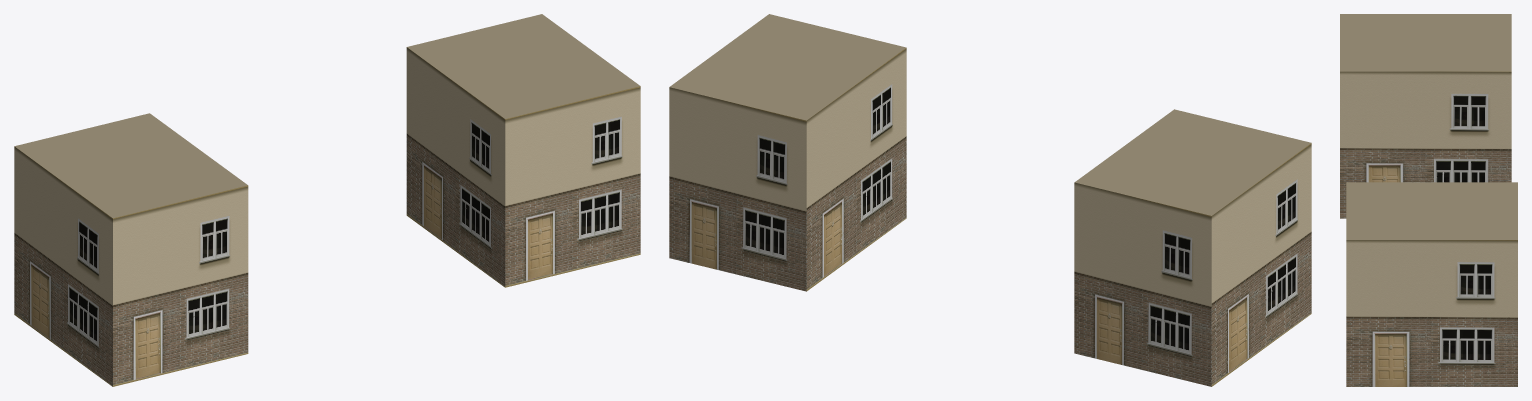
Rendered from house.fbx.
3 renders of one model, left to right at view 1: azimuth 30°, elevation 25°; view 2: azimuth 150°, elevation 25°; view 3: azimuth 270°, elevation 25°, orthographic. The views are drawn at different scales.
Parts seen in each view (by area): view 1: polySurface148, polySurface151; view 2: polySurface148, polySurface151; view 3: polySurface148, polySurface151.
Boxes of the visible parts, left/top/right/bottom form: polySurface148: left=406, top=14, right=640, bottom=287; polySurface151: left=14, top=113, right=248, bottom=386; polySurface148: left=669, top=14, right=906, bottom=291; polySurface151: left=1074, top=109, right=1311, bottom=386; polySurface148: left=1346, top=182, right=1517, bottom=386; polySurface151: left=1340, top=14, right=1511, bottom=218.
Bounding box in the file's own units: 2303 × 698 × 766.
Materials: 2 (1 with a texture image).
